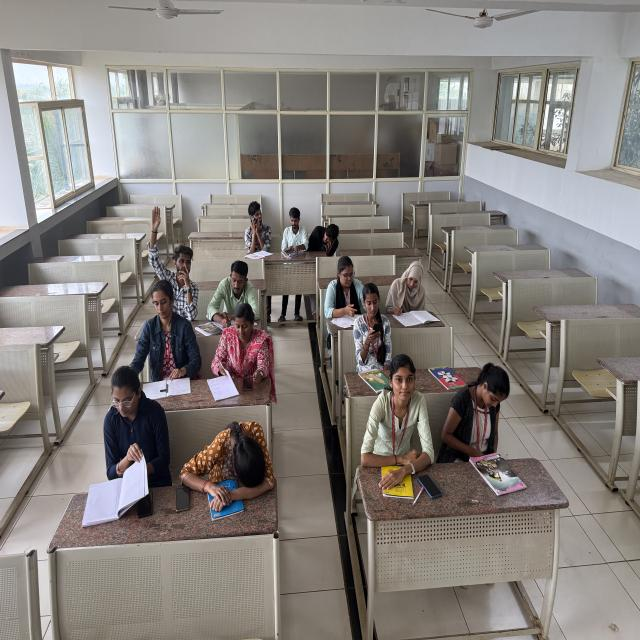Hand Rising: (146, 204, 206, 316)
Reading: (66, 355, 142, 513), (108, 283, 191, 388), (326, 244, 363, 334)
Sleeping: (198, 411, 281, 528)
Using Phone: (352, 279, 396, 360)
Writing: (383, 228, 453, 373), (194, 246, 258, 332)
